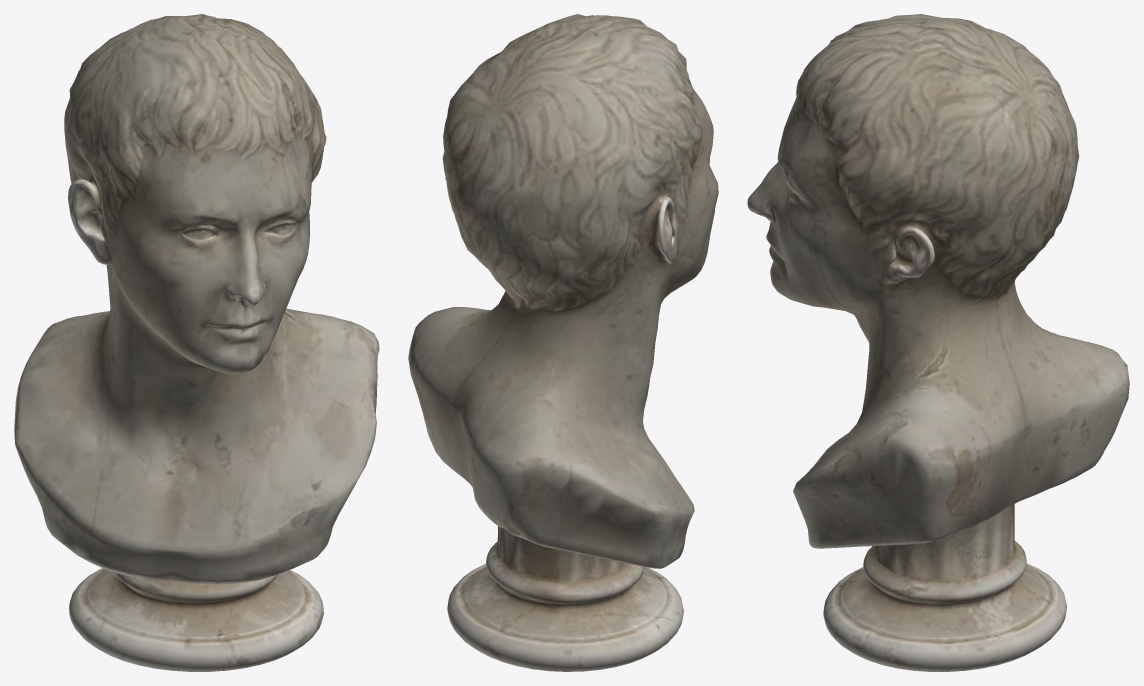
File: marble_bust.glb
3 views of the same model, side by side, from view 1: azimuth 30°, elevation 25°; view 2: azimuth 150°, elevation 25°; view 3: azimuth 270°, elevation 25° (orthographic). The views are drawn at different scales.
Parts seen in each view (by area): view 1: marble_bust_01; view 2: marble_bust_01; view 3: marble_bust_01.
Part boxes in pixels (x1,y1,x2,y2): marble_bust_01: [14, 14, 379, 671]; marble_bust_01: [408, 14, 718, 671]; marble_bust_01: [747, 14, 1129, 671].
Bounding box in the file's own units: 0.2718 × 0.5149 × 0.2997.
1 material, 1 textured.
